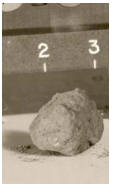Breccia: (31, 84, 103, 155)
